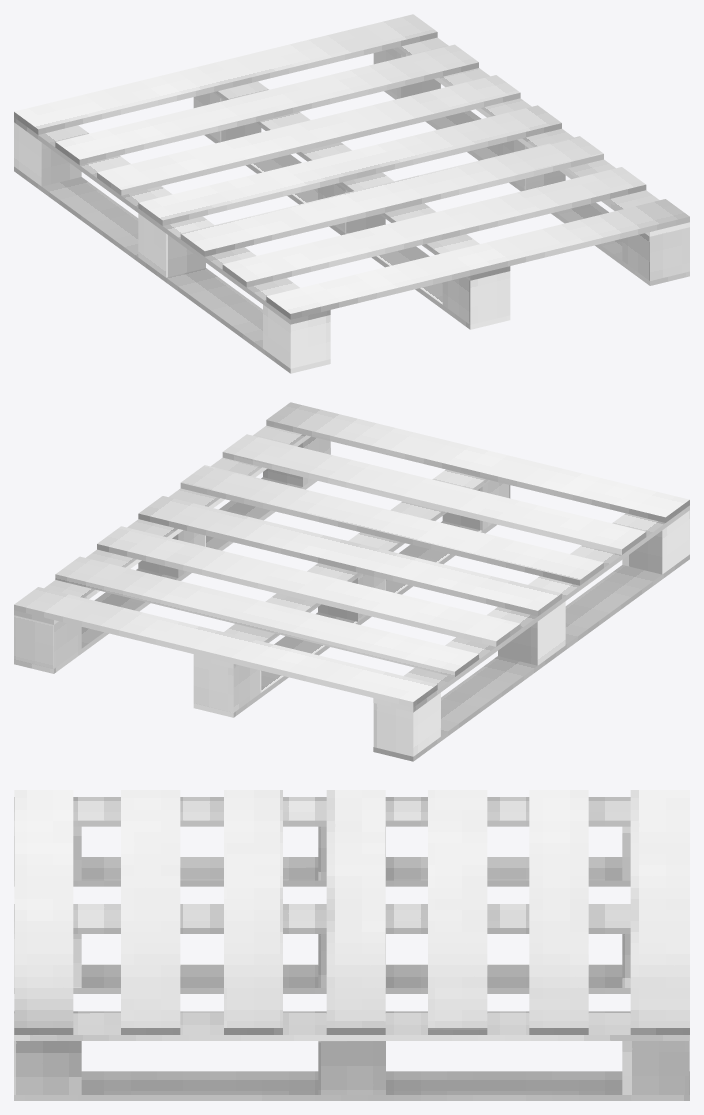
The model's file is WoodenPalletUnitedStates.glb.
3 renders of one model, top to bottom at view 1: azimuth 30°, elevation 25°; view 2: azimuth 150°, elevation 25°; view 3: azimuth 270°, elevation 25°, orthographic. The views are drawn at different scales.
Parts seen in each view (by area): view 1: WoodenPalletUnitedStates; view 2: WoodenPalletUnitedStates; view 3: WoodenPalletUnitedStates.
Part boxes in pixels (bbox=[...]): WoodenPalletUnitedStates: bbox=[14, 14, 689, 373]; WoodenPalletUnitedStates: bbox=[14, 402, 689, 761]; WoodenPalletUnitedStates: bbox=[14, 790, 689, 1100].
Size of the model in its own units: 1.02 by 0.145 by 1.22.
Materials: 1 (1 with a texture image).
